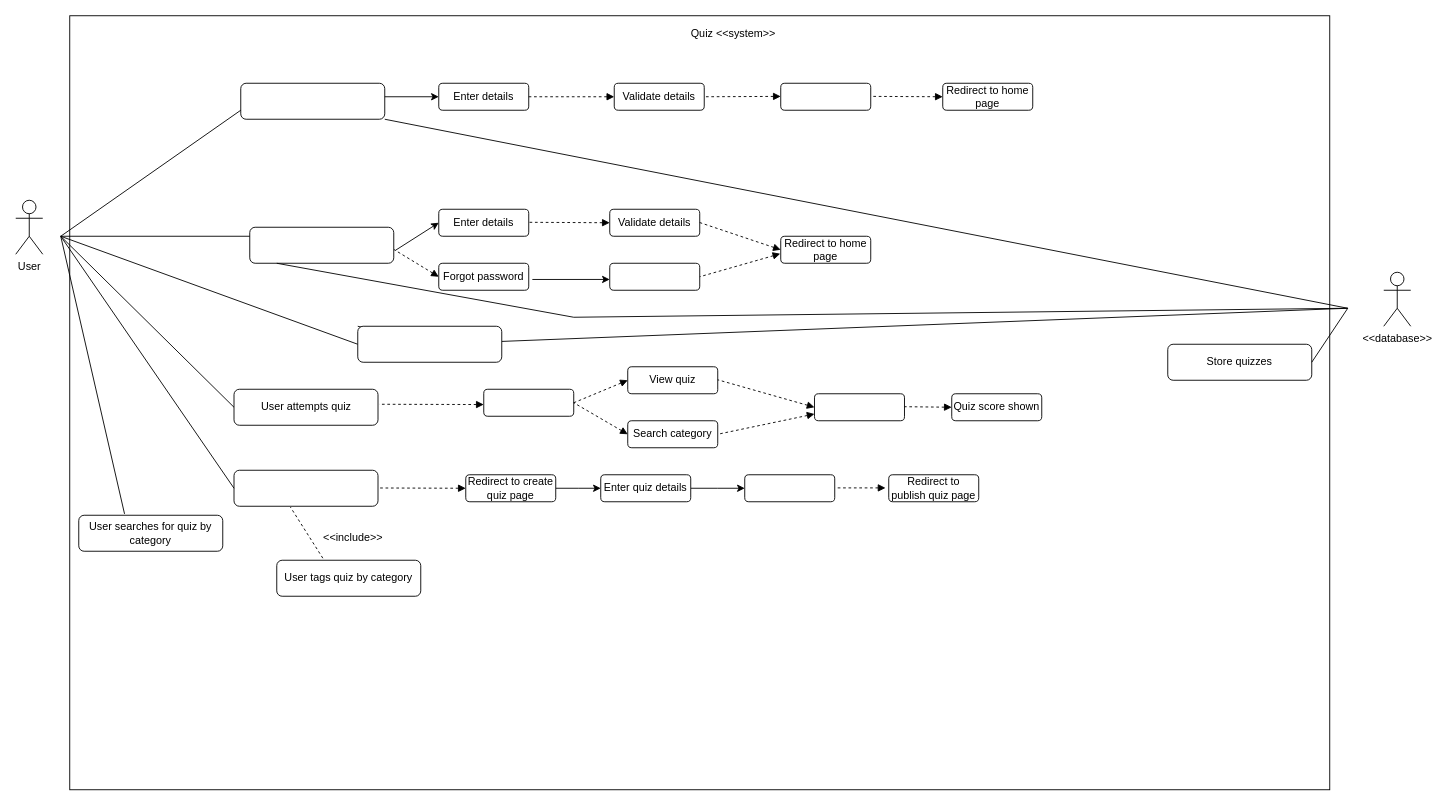
Some shapes in this 1447 by 806 pixel diagram are drawn without their labels. Each missing label, with the centre of its shape:
"Attempt quiz" goes at point 859,407.
"Create account" goes at point 825,96.
"Enter new password" goes at point 654,276.
"Enter Questions and Answers" goes at point 789,488.
"Redirect to select quiz page" goes at point 528,402.
"User creates quiz" goes at point 305,487.
"User Login" goes at point 321,244.
"User Registration" goes at point 312,100.
"User views quiz stats" goes at point 429,343.
